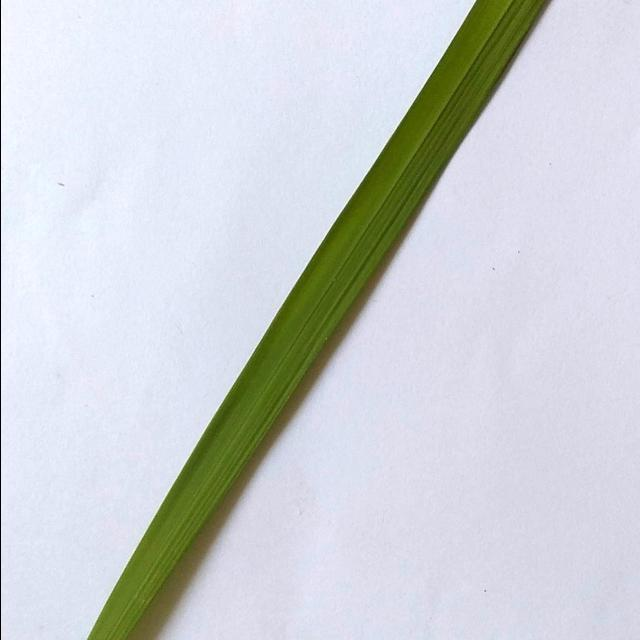healthy: (78, 0, 572, 640)
